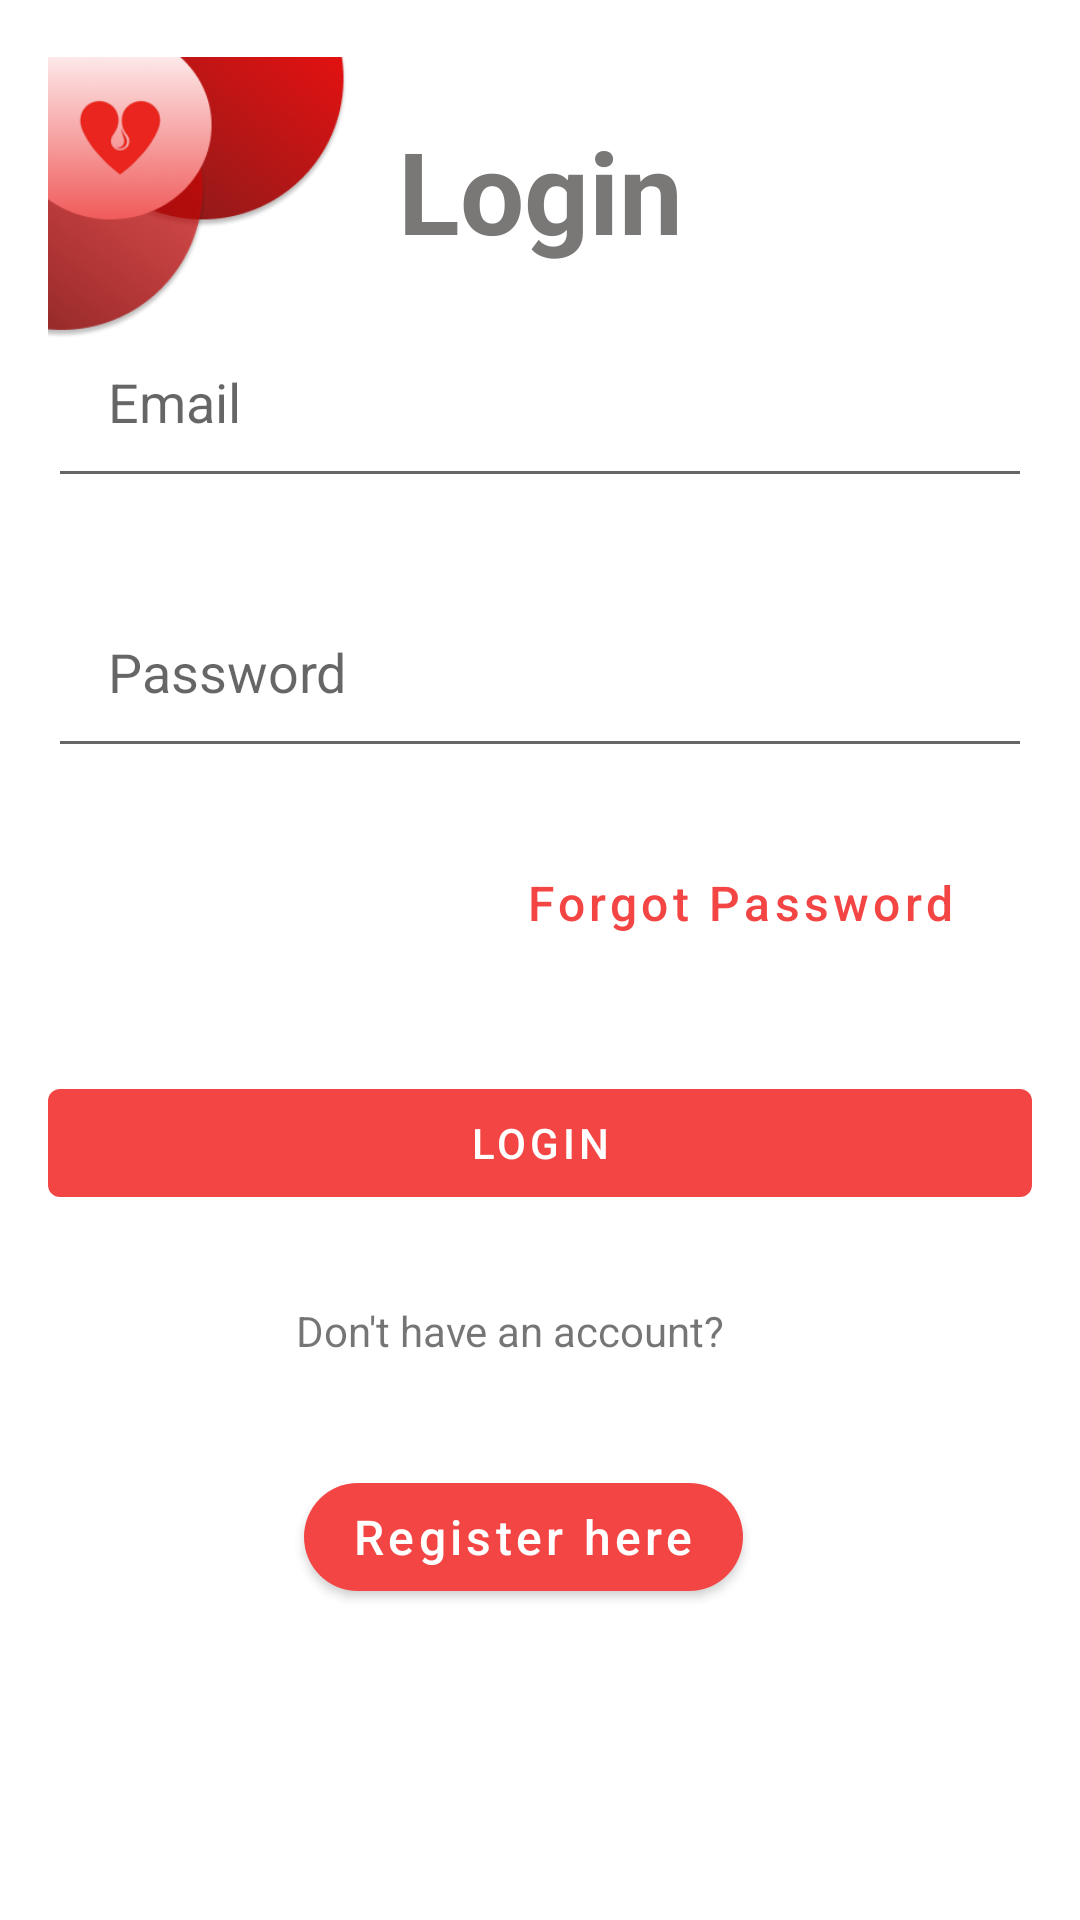

Named icons in this screenshot (1080 x 1920) and their bounding boxes, (x1, y1, x2, y2):
shapes: (48, 57, 344, 335)
